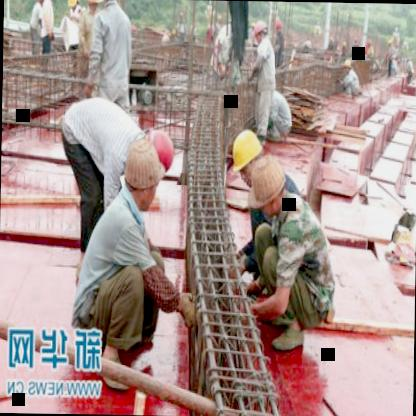helmet: (228, 126, 268, 188), (144, 123, 176, 172), (252, 17, 270, 50), (84, 0, 103, 14), (66, 0, 78, 11), (34, 0, 46, 8), (97, 0, 122, 3), (42, 0, 54, 1)
